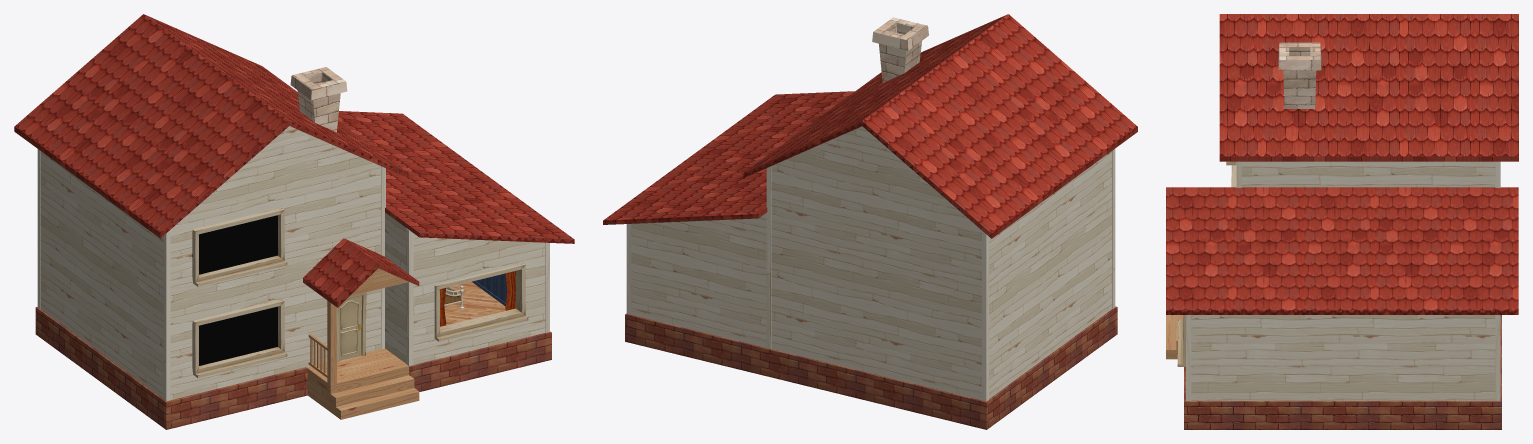
The picture shows the model from 3 angles, left to right: view 1: azimuth 30°, elevation 25°; view 2: azimuth 150°, elevation 25°; view 3: azimuth 270°, elevation 25°; orthographic projection. The views are drawn at different scales.
Visible parts, largest first — view 1: Object_7, Object_8, Object_6, Object_25, Object_9, Object_20, Object_4, Object_12, Object_5, Object_10, Object_31; view 2: Object_7, Object_8, Object_6, Object_4; view 3: Object_8, Object_7, Object_6, Object_4, Object_25, Object_9.
Part boxes in pixels (<box>): Object_7: <box>37,126,549,401</box>; Object_8: <box>14,14,574,307</box>; Object_6: <box>35,307,551,429</box>; Object_25: <box>192,207,528,377</box>; Object_9: <box>306,268,419,419</box>; Object_20: <box>192,215,277,365</box>; Object_4: <box>290,67,347,132</box>; Object_12: <box>336,292,366,362</box>; Object_5: <box>444,281,505,325</box>; Object_10: <box>472,273,507,306</box>; Object_31: <box>440,271,516,326</box>; Object_7: <box>626,126,1115,401</box>; Object_8: <box>603,14,1137,238</box>; Object_6: <box>625,306,1117,429</box>; Object_4: <box>872,17,928,82</box>; Object_8: <box>1166,14,1518,314</box>; Object_7: <box>1186,161,1500,401</box>; Object_6: <box>1184,315,1501,429</box>; Object_4: <box>1278,42,1321,108</box>; Object_25: <box>1177,161,1236,366</box>; Object_9: <box>1166,315,1182,359</box>.
Bounding box in the file's own units: 35.45 × 24.98 × 27.23.
15 materials, 13 textured.
